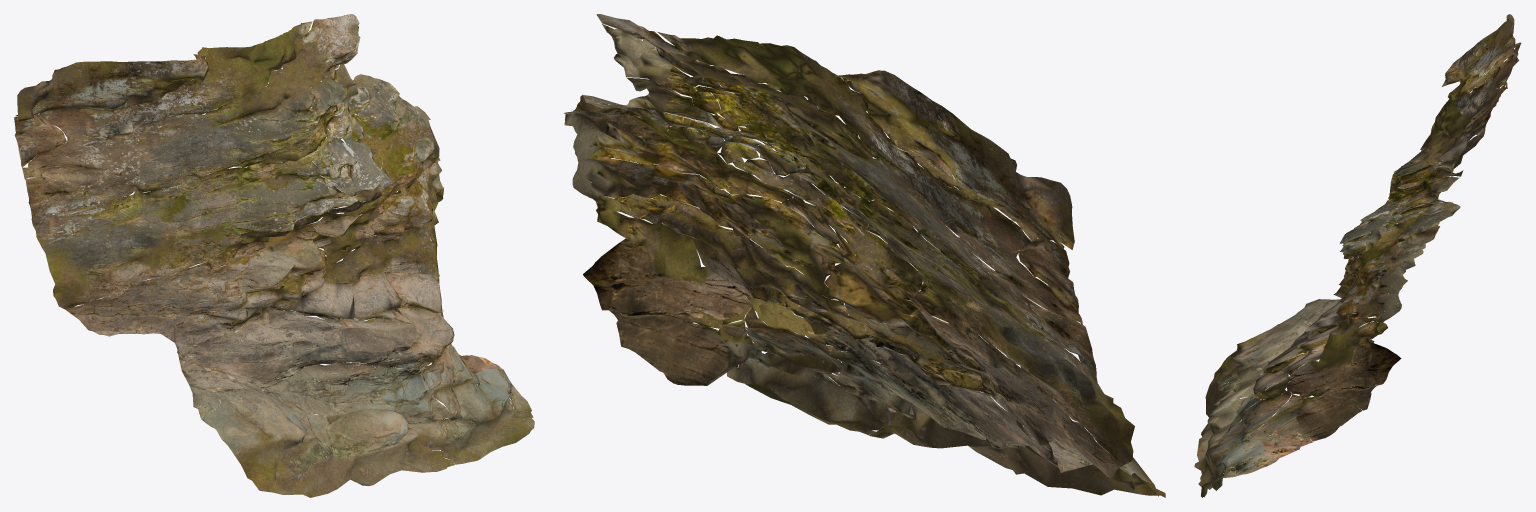
File: kf_rock_face_b.glb
3 views of the same model, side by side, from view 1: azimuth 30°, elevation 25°; view 2: azimuth 150°, elevation 25°; view 3: azimuth 270°, elevation 25° (orthographic). The views are drawn at different scales.
Visible parts, largest first — view 1: rock_face_02; view 2: rock_face_02; view 3: rock_face_02.
Part boxes in pixels (left/top/right/bottom): rock_face_02: left=14, top=14, right=534, bottom=497; rock_face_02: left=563, top=14, right=1165, bottom=497; rock_face_02: left=1194, top=14, right=1521, bottom=497.
Size of what is drawn, in the model's own units: 2.71 by 2.48 by 2.13.
Materials: 1 (1 with a texture image).
